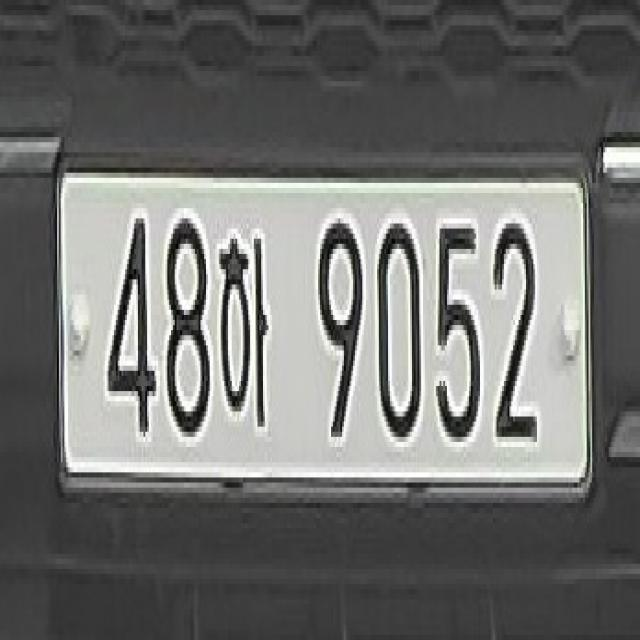0: (374, 208, 426, 464)
2: (489, 213, 546, 460)
4: (100, 204, 162, 459)
5: (428, 208, 486, 458)
8: (162, 212, 214, 456)
9: (312, 205, 368, 465)
ha: (215, 220, 275, 436)
license_plate: (42, 134, 602, 528)
